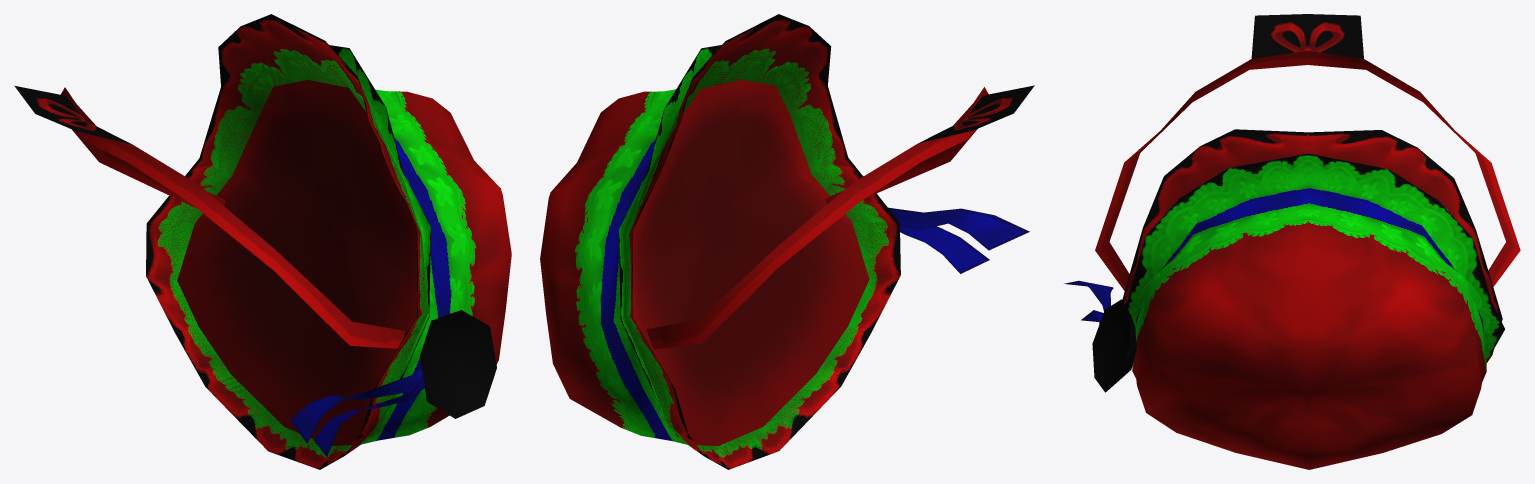
3 views of the same model, side by side, from view 1: azimuth 30°, elevation 25°; view 2: azimuth 150°, elevation 25°; view 3: azimuth 270°, elevation 25° (orthographic). The views are drawn at different scales.
Visible parts, largest first — view 1: F1182; view 2: F1182; view 3: F1182.
Boxes of the visible parts, x1,y1,x2,y2 form: F1182: [14, 14, 511, 469]; F1182: [540, 14, 1034, 469]; F1182: [1064, 14, 1520, 469].
Size of the model in its own units: 0.6476 by 0.5626 by 0.6885.
